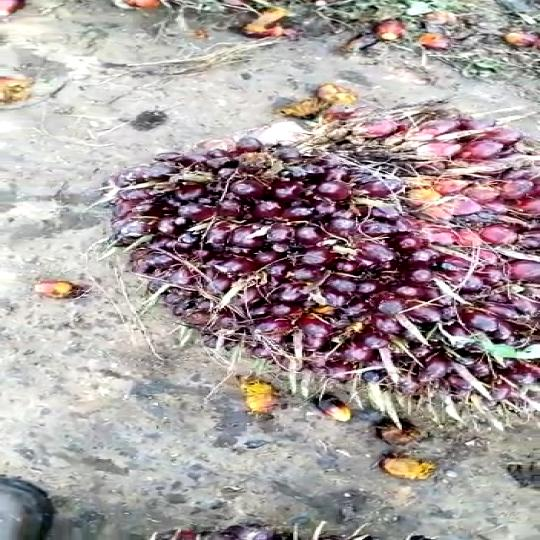kurang masak: (92, 95, 540, 444)
